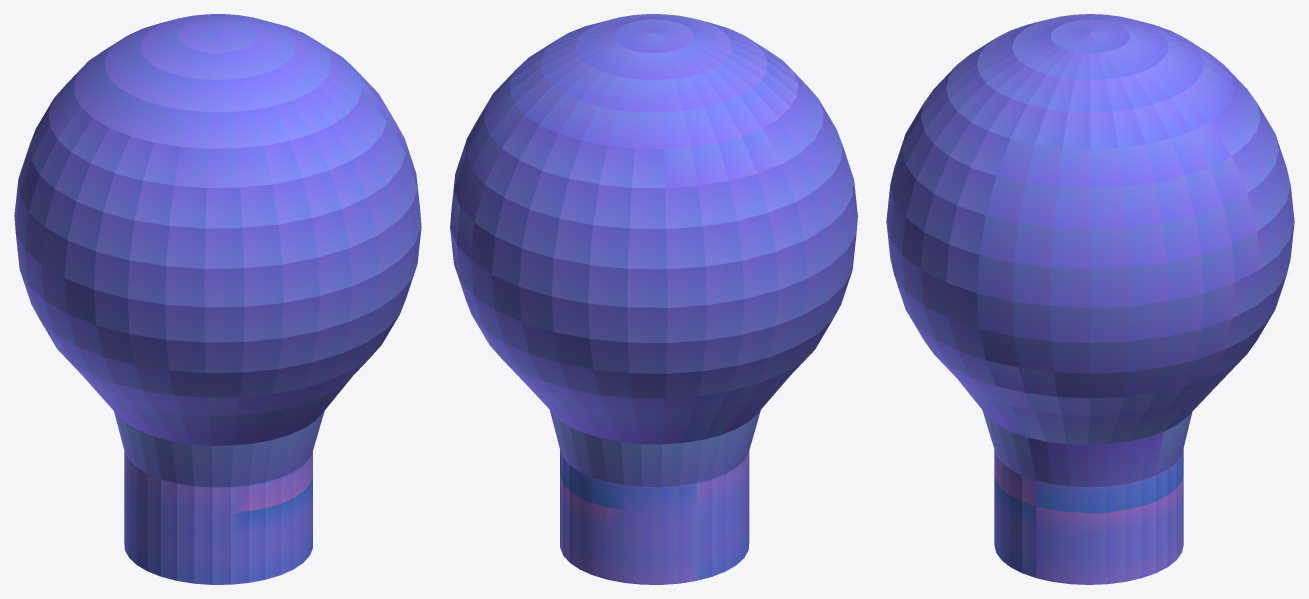
The model's file is lightbulb.obj.
3 renders of one model, left to right at view 1: azimuth 30°, elevation 25°; view 2: azimuth 150°, elevation 25°; view 3: azimuth 270°, elevation 25°, orthographic.
Visible parts, largest first — view 1: LowRes_Sphere.001; view 2: LowRes_Sphere.001; view 3: LowRes_Sphere.001.
Part boxes in pixels (<box>): LowRes_Sphere.001: <box>14,14,421,584</box>; LowRes_Sphere.001: <box>450,14,857,584</box>; LowRes_Sphere.001: <box>886,14,1294,584</box>.
Bounding box in the file's own units: 0.65 × 0.9 × 0.65.
2 materials, 2 textured.
